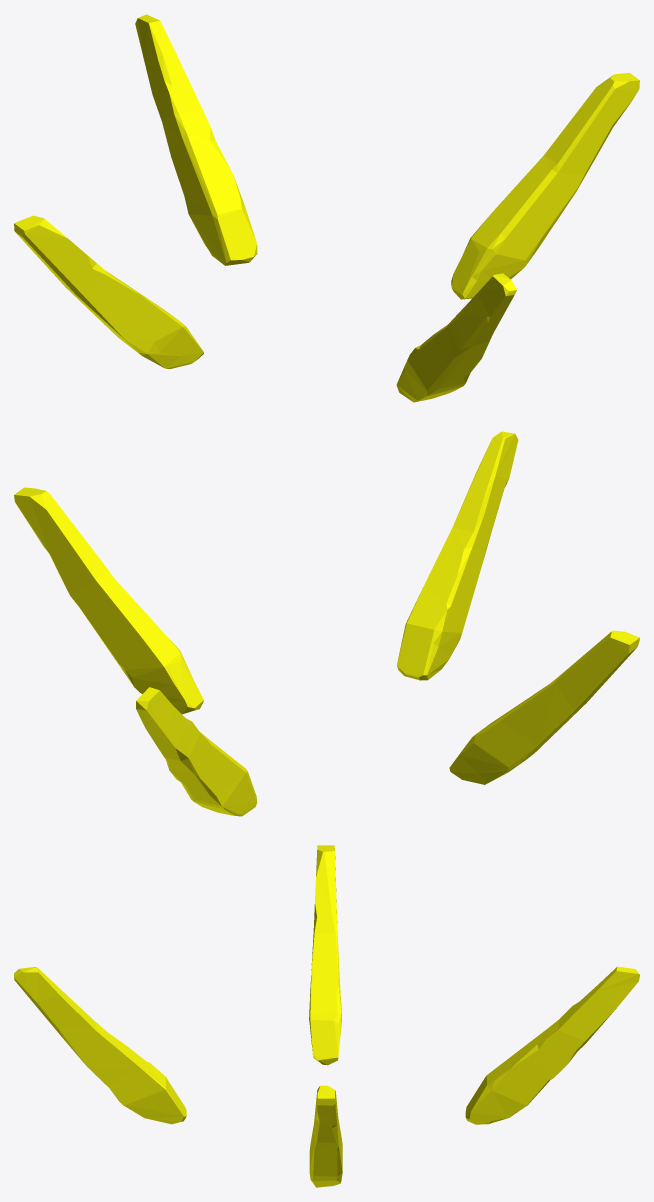
The model's file is Portal_03.glb.
3 renders of one model, top to bottom at view 1: azimuth 30°, elevation 25°; view 2: azimuth 150°, elevation 25°; view 3: azimuth 270°, elevation 25°, orthographic. The views are drawn at different scales.
Visible parts, largest first — view 1: Portal_03; view 2: Portal_03; view 3: Portal_03.
Boxes of the visible parts, <box> form: Portal_03: <box>14,14,639,402</box>; Portal_03: <box>14,431,639,816</box>; Portal_03: <box>14,845,639,1187</box>.
Size of the model in its own units: 6.94 by 1.95 by 7.24.
1 material, 1 textured.
